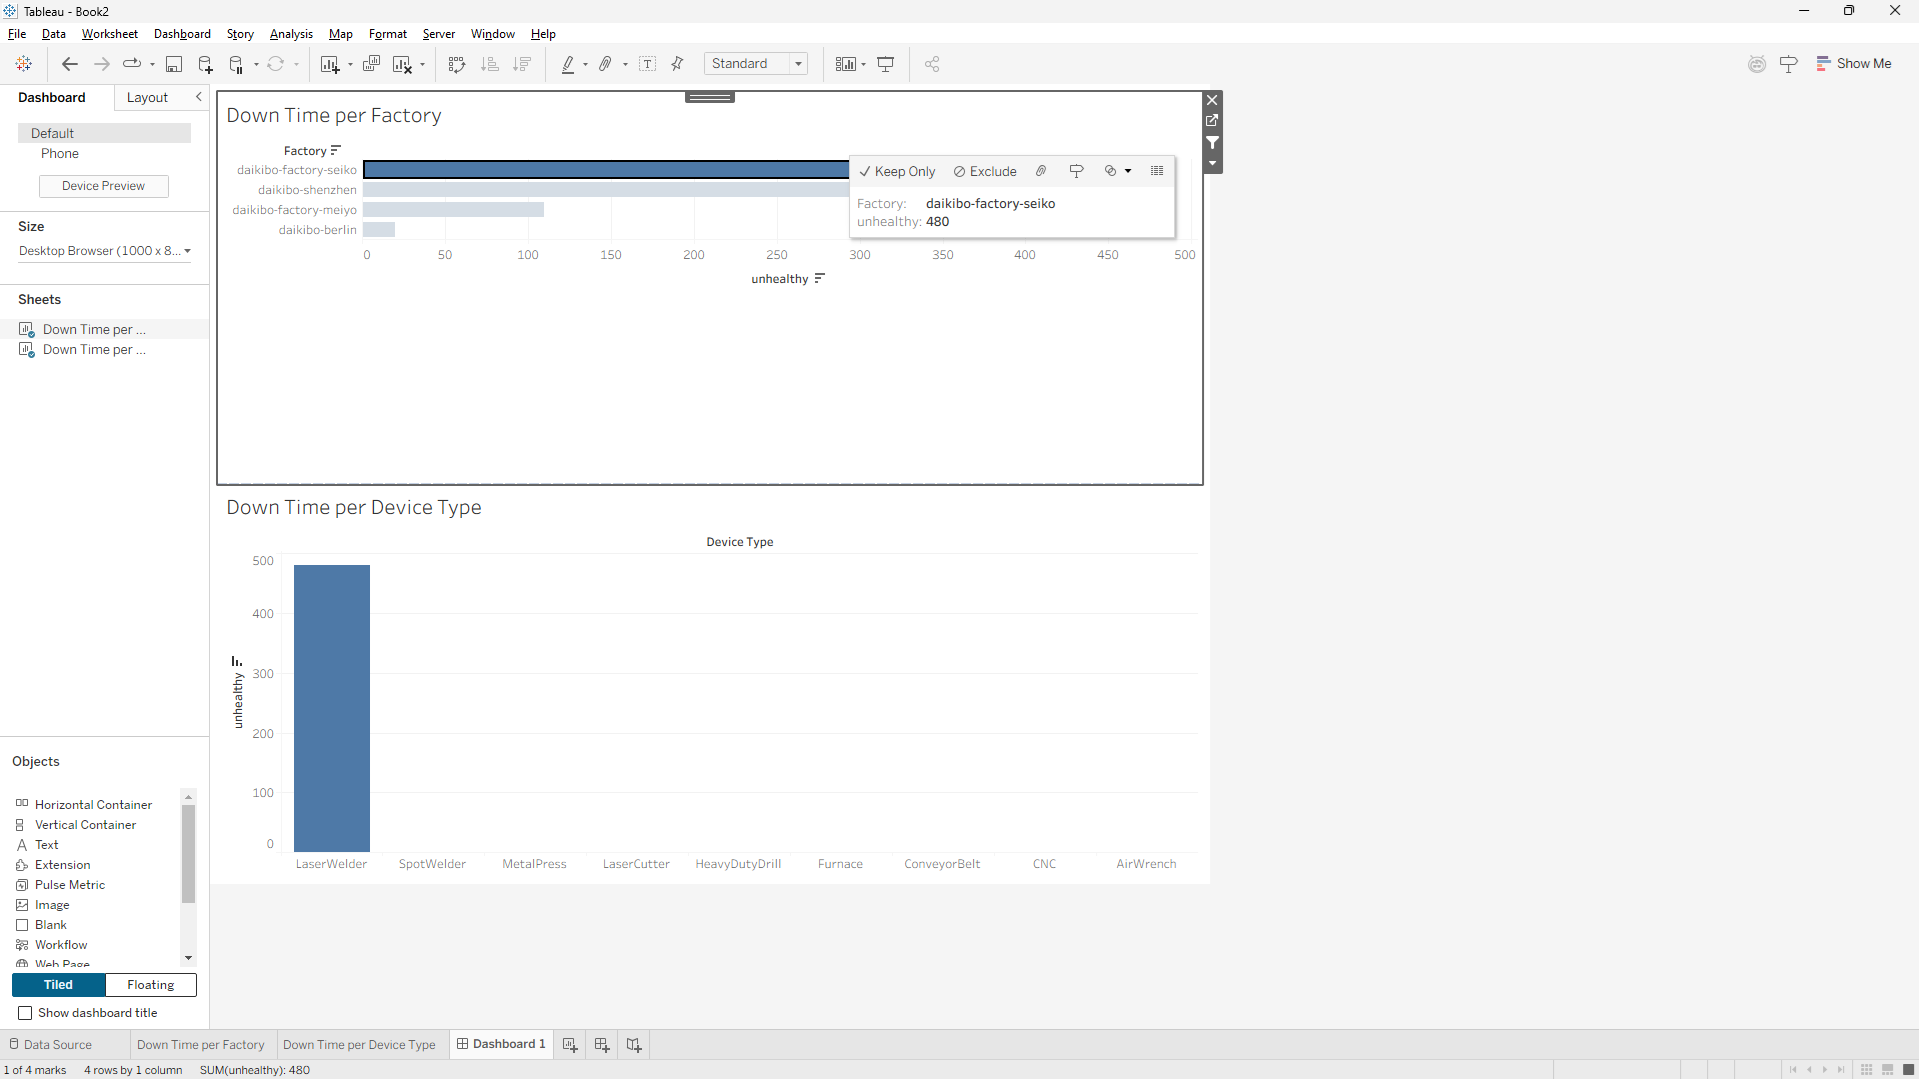

This screenshot's page, from the dashboard's own definition file:
{"tool":"tableau","page":{"name":"Dashboard 1","canvas":[1000,800],"ordinal":0},"visuals":[{"type":"worksheet","title":"Sheet 2","mark":"Automatic","rows":["Calculation_0719682802999296"],"cols":["factory"],"box":[8,8,416,784]},{"type":"worksheet","title":"Sheet 1","mark":"Automatic","rows":["deviceType"],"cols":["Calculation_0719682802999296"],"box":[424,8,568,784]}]}

Visuals, with their boxes on the page's 1000x800 design canvas (x1, y1, x2, y2). These are canvas units, not pixel positions in the 1919x1079 screenshot, which may show the page scaled, cropped or inside an application window:
"Sheet 2" worksheet: [x1=8, y1=8, x2=424, y2=792]
"Sheet 1" worksheet: [x1=424, y1=8, x2=992, y2=792]
